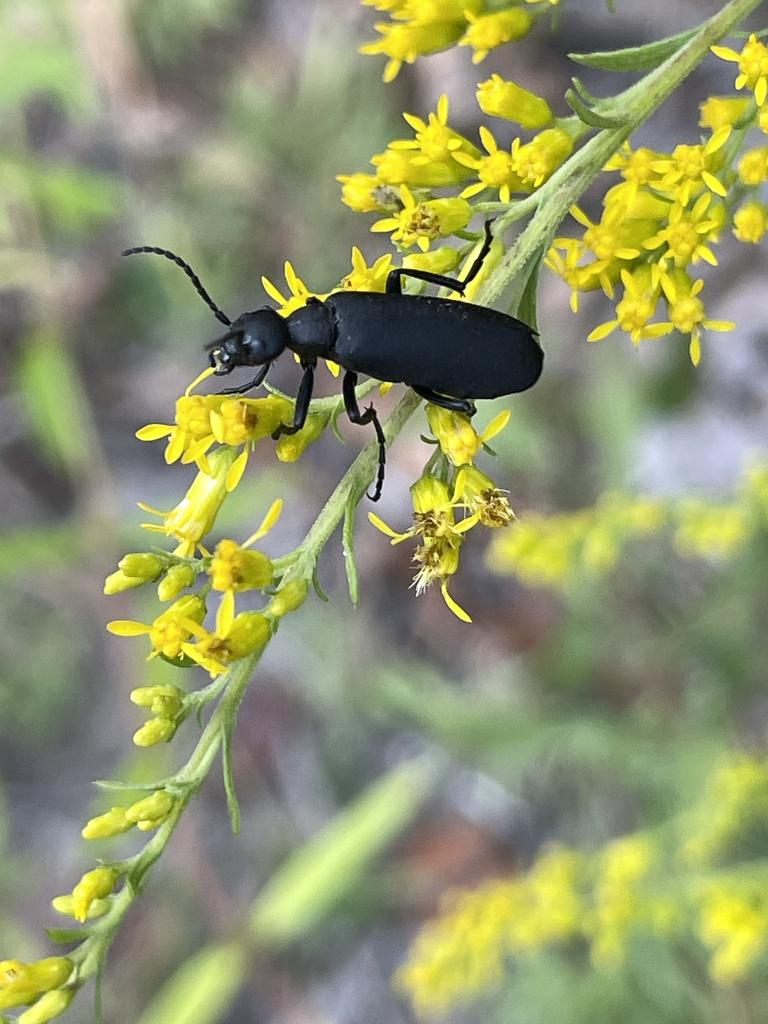blister_beetle: (77, 165, 596, 545)
